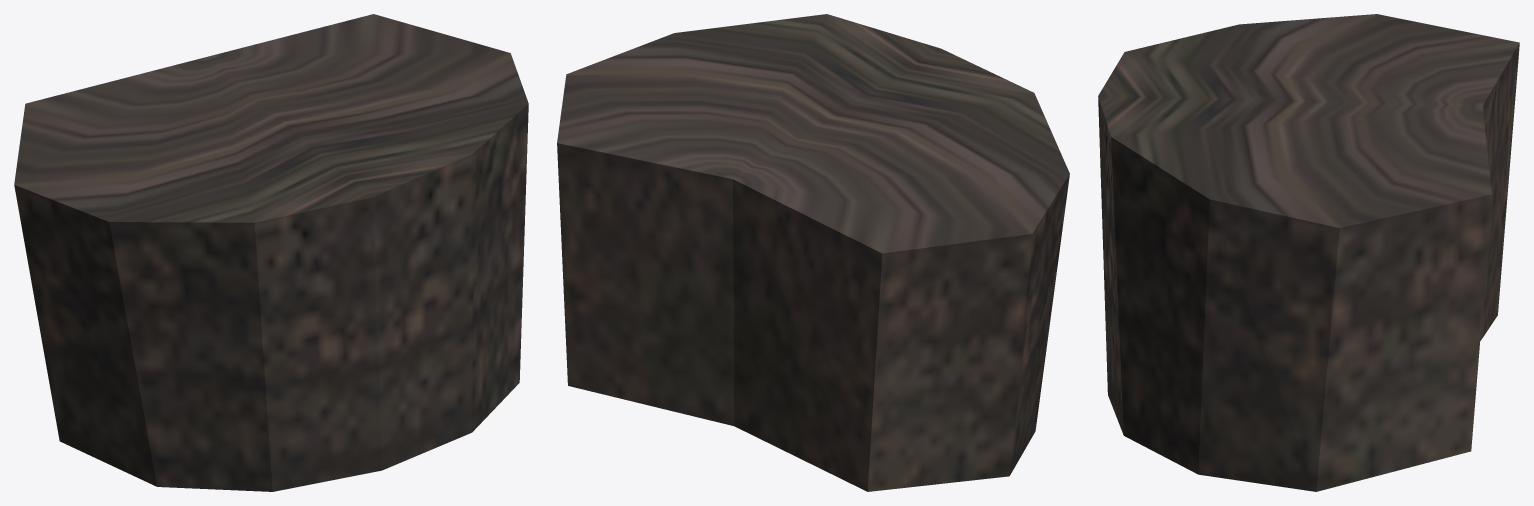
The model's file is trompa6.obj.
3 views of the same model, side by side, from view 1: azimuth 30°, elevation 25°; view 2: azimuth 150°, elevation 25°; view 3: azimuth 270°, elevation 25° (orthographic). The views are drawn at different scales.
Parts seen in each view (by area): view 1: pasted__polySurface38 pasted__polySurface36 group; view 2: pasted__polySurface38 pasted__polySurface36 group; view 3: pasted__polySurface38 pasted__polySurface36 group.
Part boxes in pixels (box(x1,y1,x2,y2)): pasted__polySurface38 pasted__polySurface36 group: box(14, 14, 528, 491); pasted__polySurface38 pasted__polySurface36 group: box(557, 14, 1069, 491); pasted__polySurface38 pasted__polySurface36 group: box(1098, 14, 1519, 491).
Bounding box in the file's own units: 1.35 × 0.8326 × 0.9887.
Materials: 1 (1 with a texture image).
